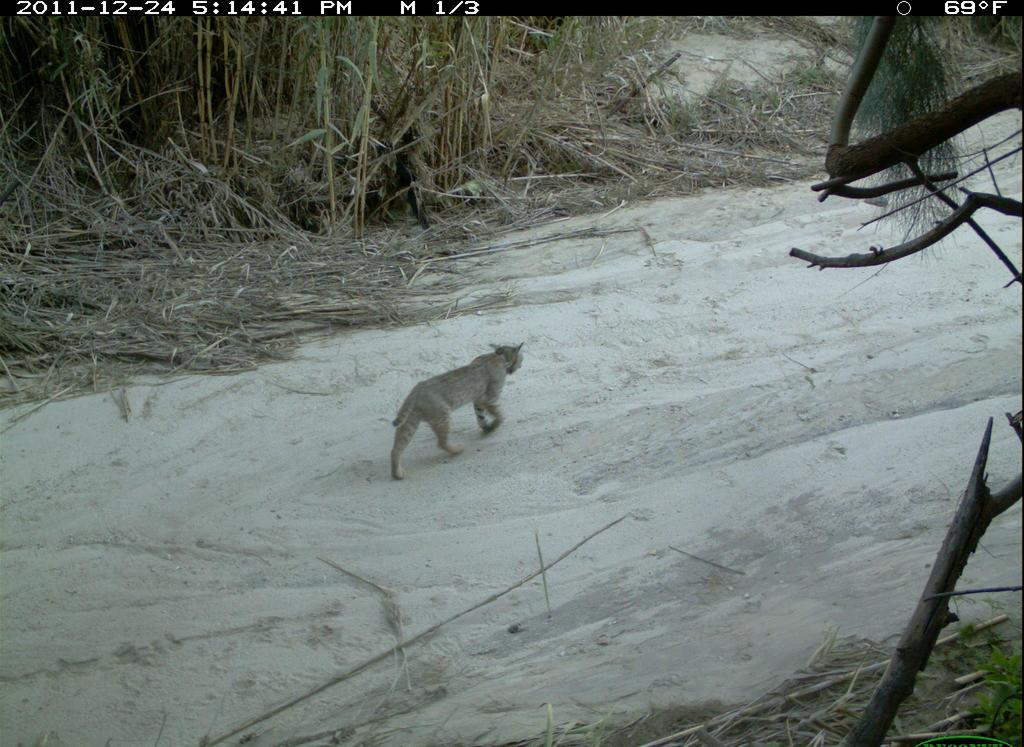bobcat: (337, 340, 565, 502)
